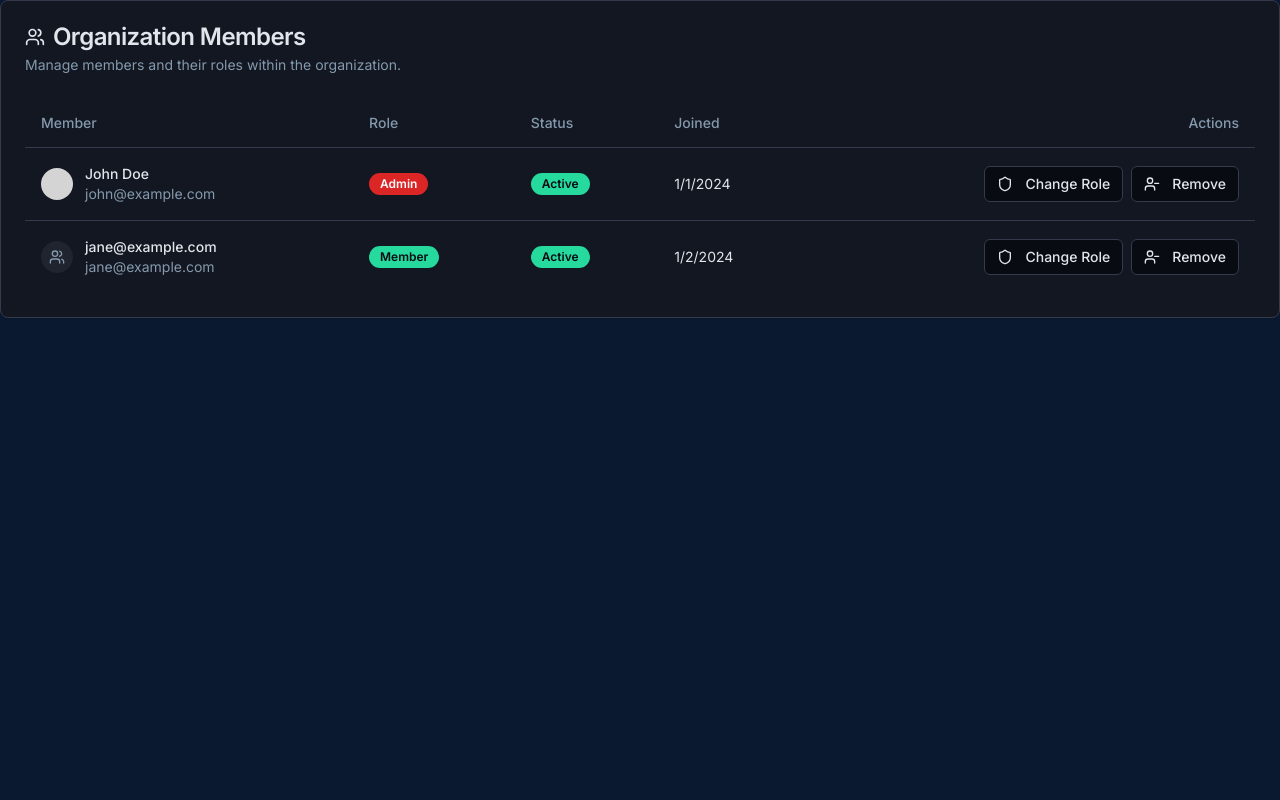
Test: MemberManagement › cancels dialogs when clicking cancel
Open role change dialog
Click the button "Change Role" in the row of "John Doe": (1054, 184) [984,166,1123,202]
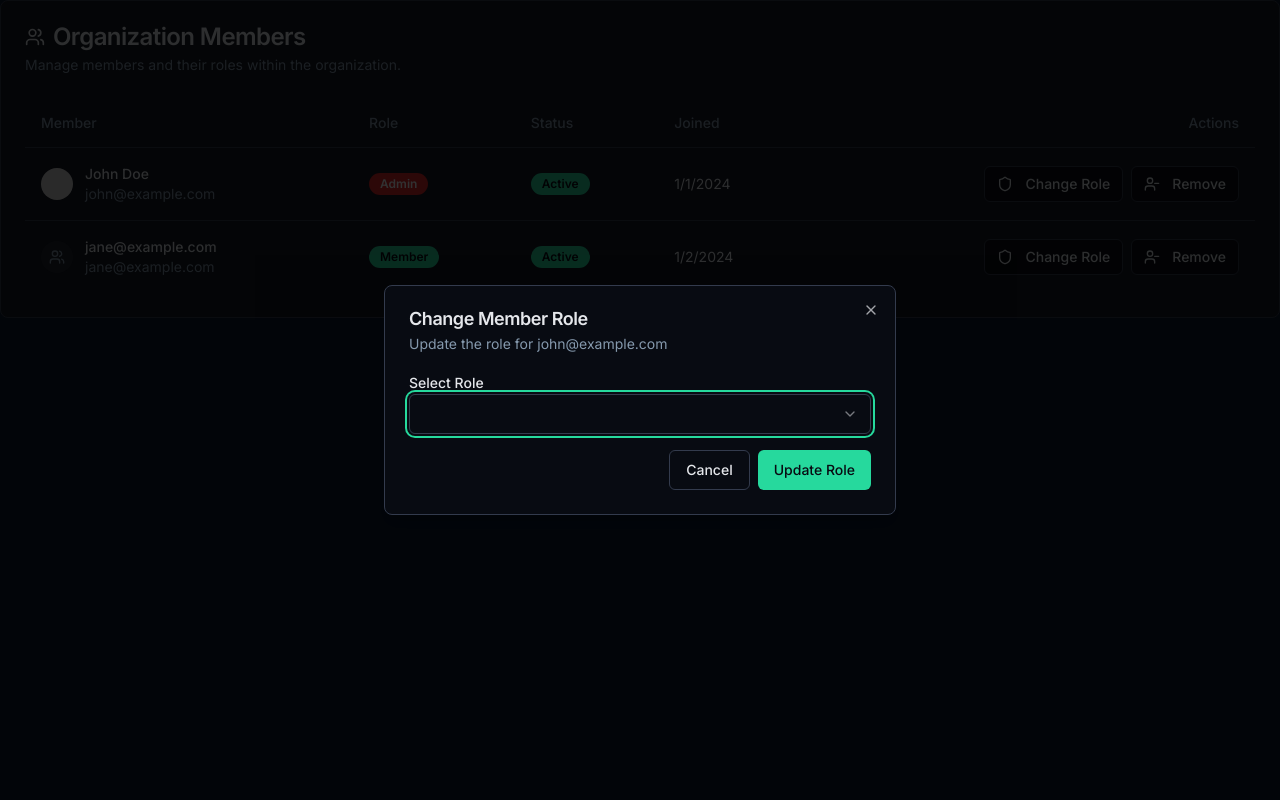
Click the button "Cancel": (709, 470) [669,450,750,490]
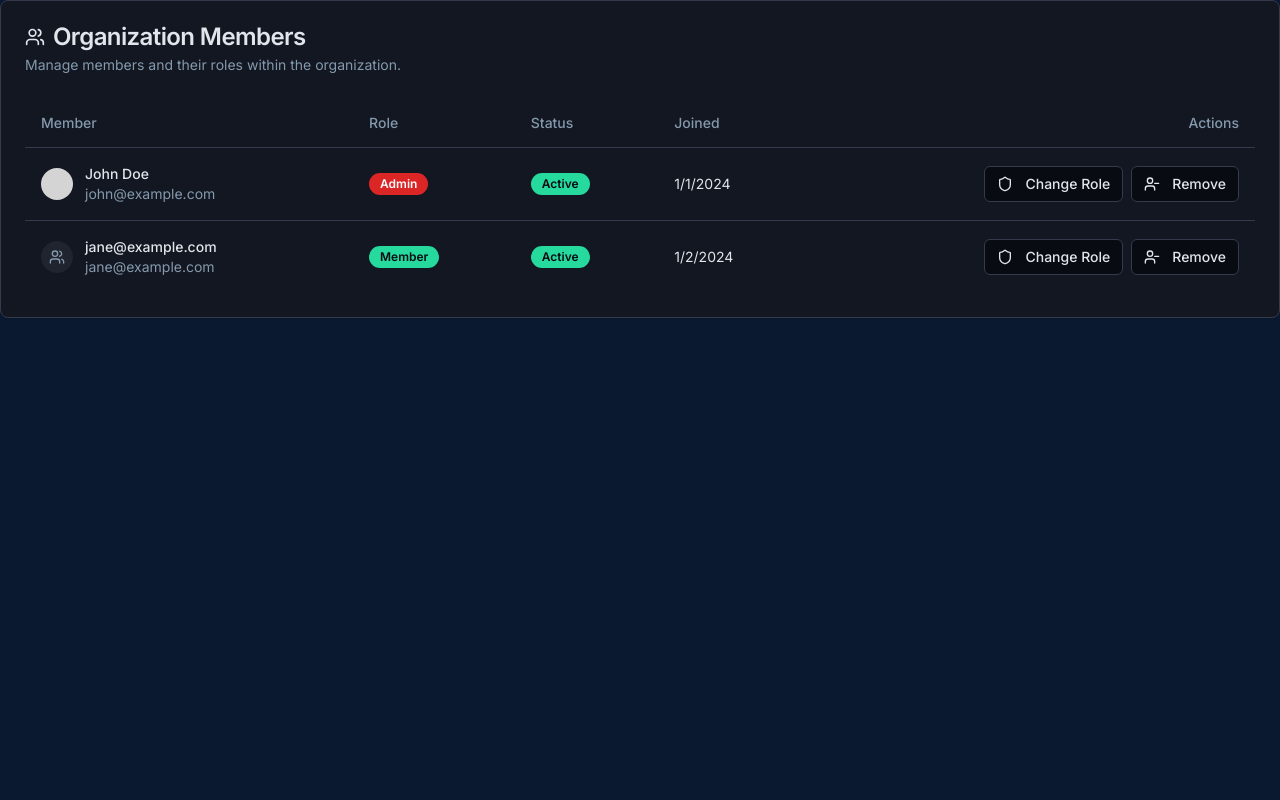
Expected: the heading "Change Member Role" is gone
